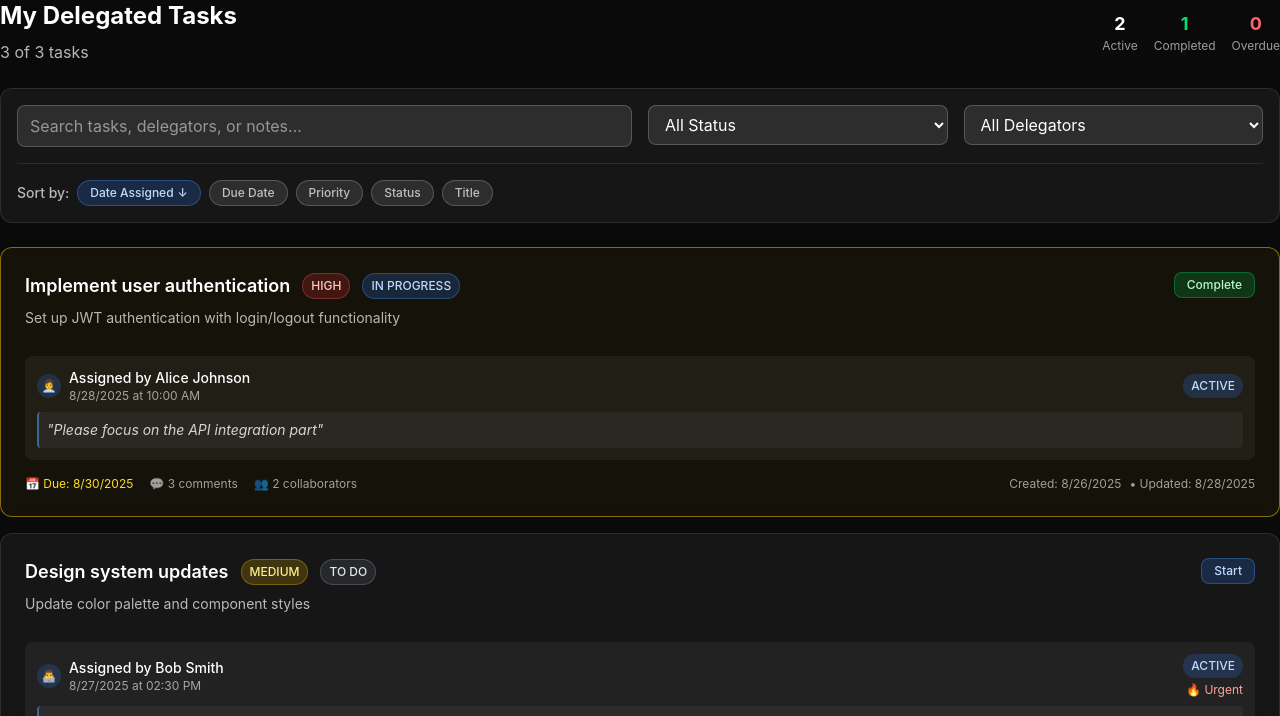
it: DelegatedTasksView › Filtering › clears filters when clear button is clicked
# Apply filters
Type "nonexistent" into the field with placeholder "Search tasks, delegators, or notes..." at (324,126), box [17, 105, 632, 147]
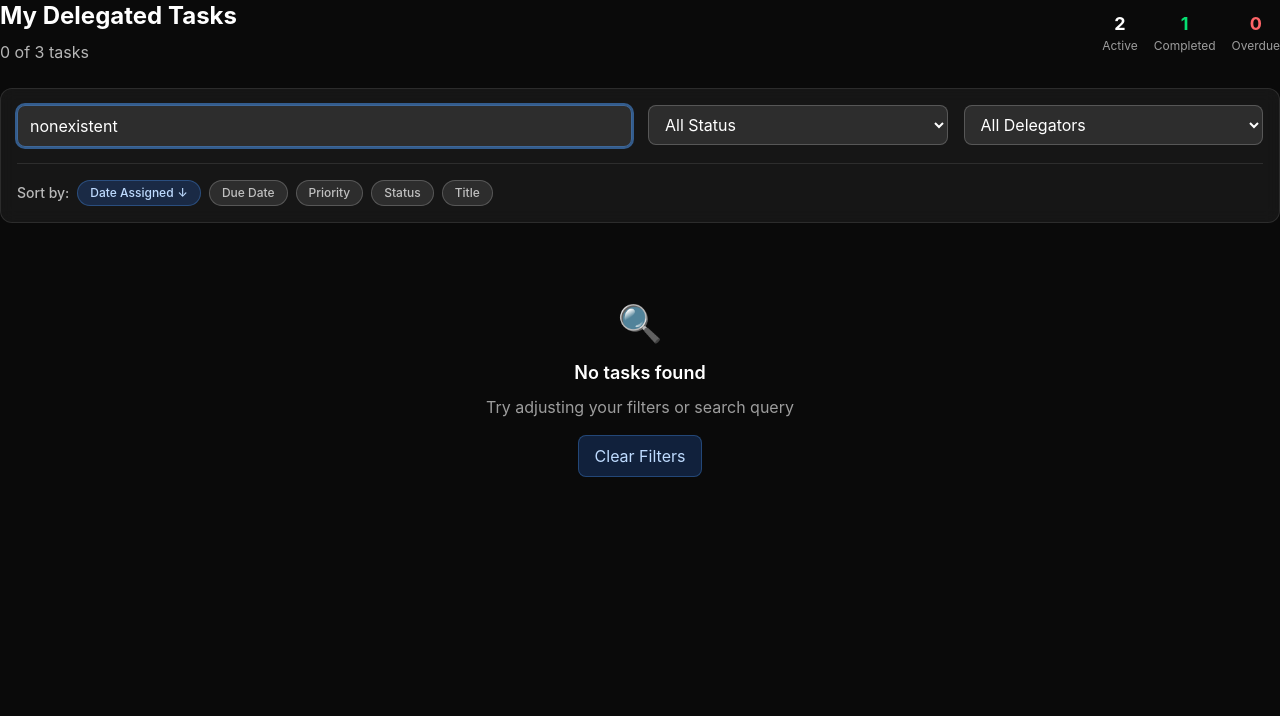
Result: the heading "No tasks found" is shown at [574, 362, 706, 383]
# Clear filters
Click the button "Clear Filters" at (640,456), box [578, 435, 702, 477]
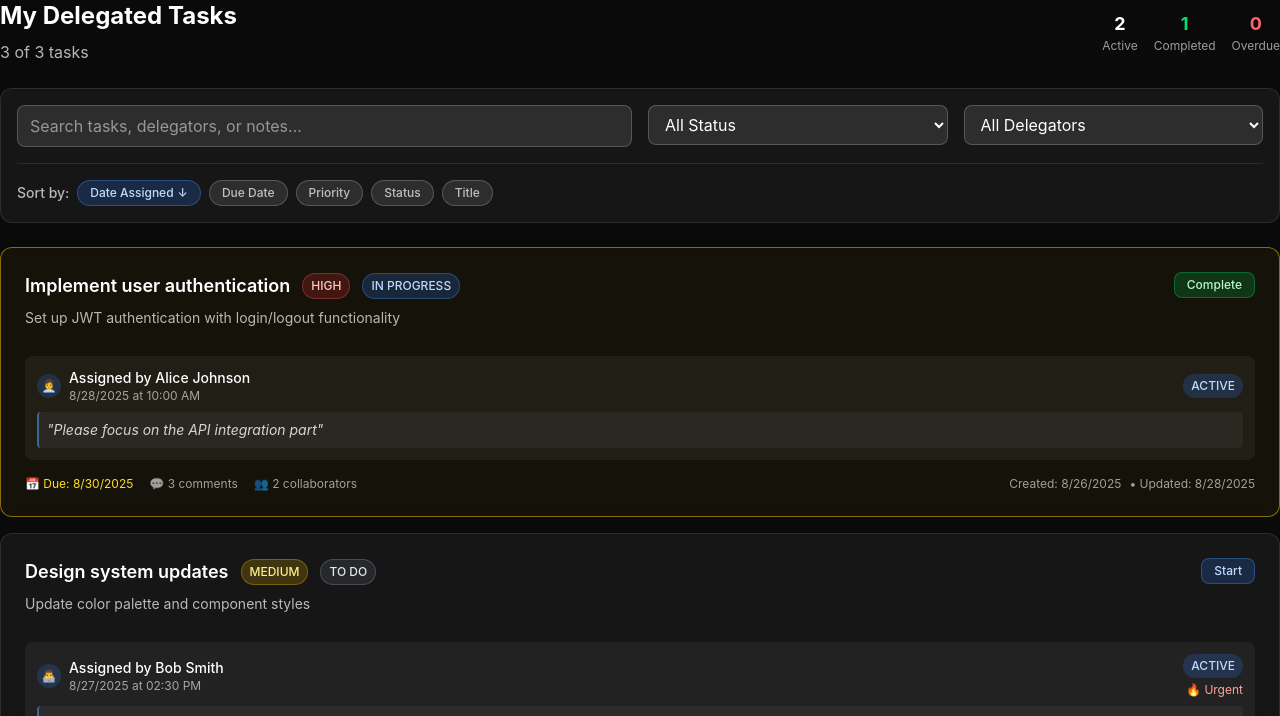
Expected: the field with placeholder "Search tasks, delegators, or notes..." is shown, [17, 105, 632, 147]
Result: the heading "Implement user authentication" is shown at [25, 272, 290, 300]
